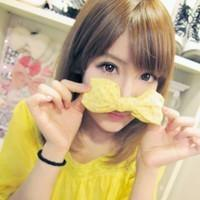face_mask: (81, 28, 162, 134)
